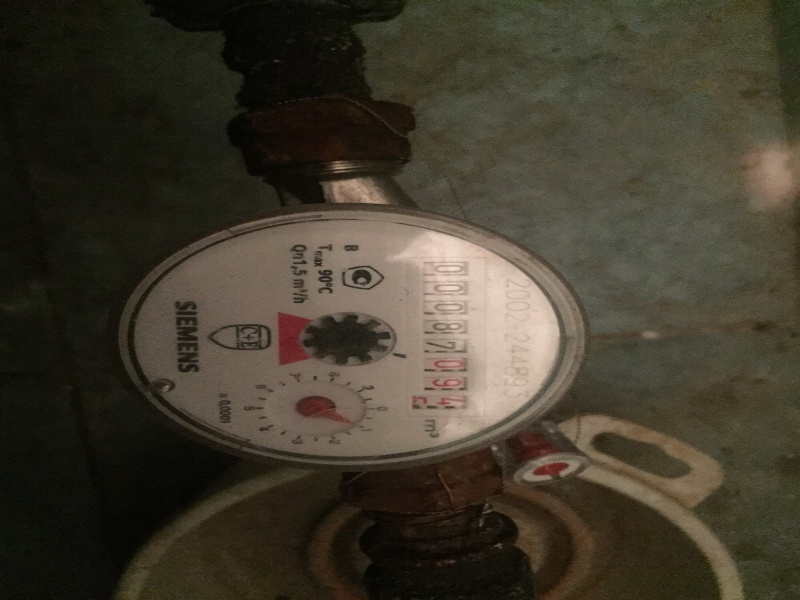meter: (424, 257, 471, 432)
